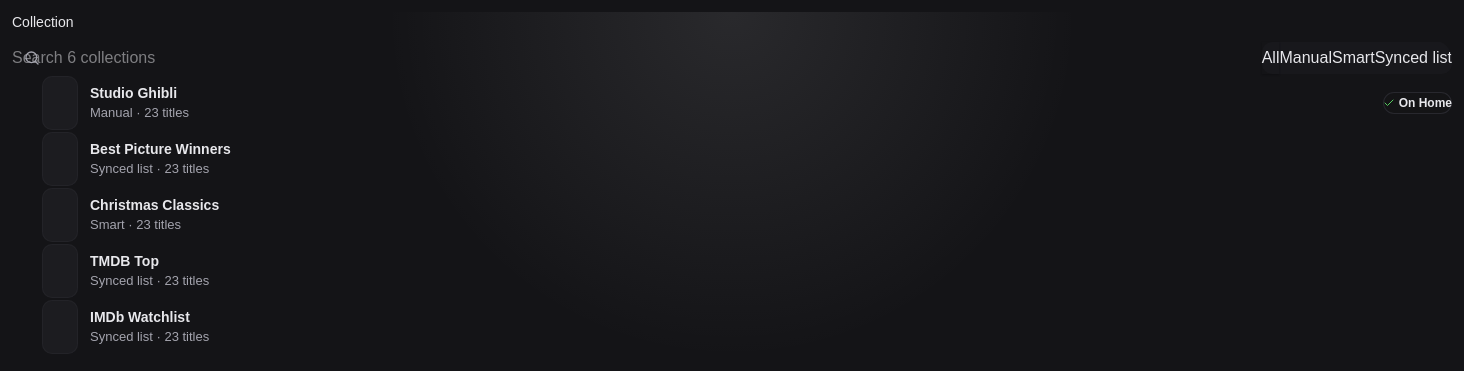
Test: CollectionPicker › searches by name and says when nothing matches
Type "christ" into the search field named "Search collections".
click(633, 58); type("christ")  # box x1=12 y1=40 x2=1254 y2=76
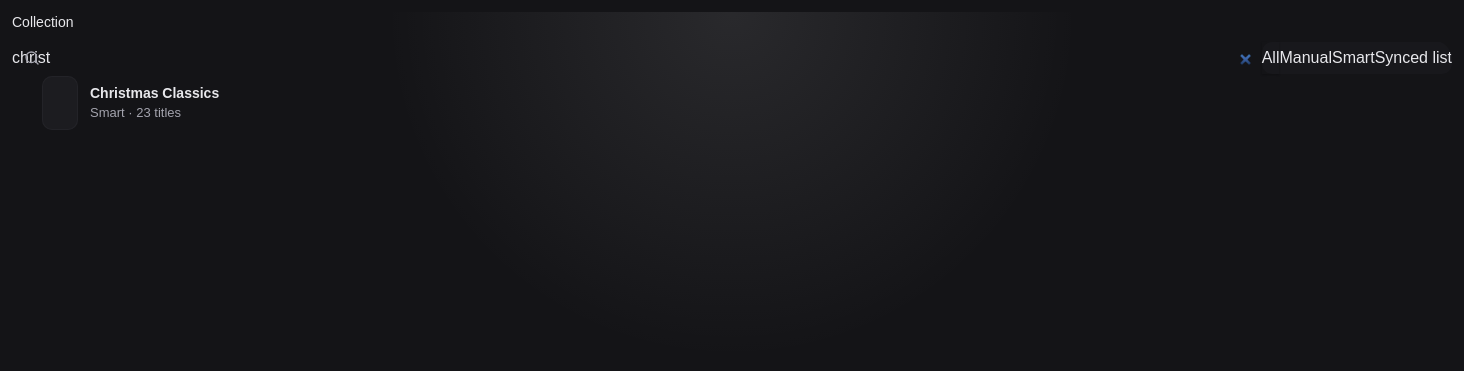
Replace the text in the search field named "Search collections" with "zzz" at (633, 58), box x1=12 y1=40 x2=1254 y2=76
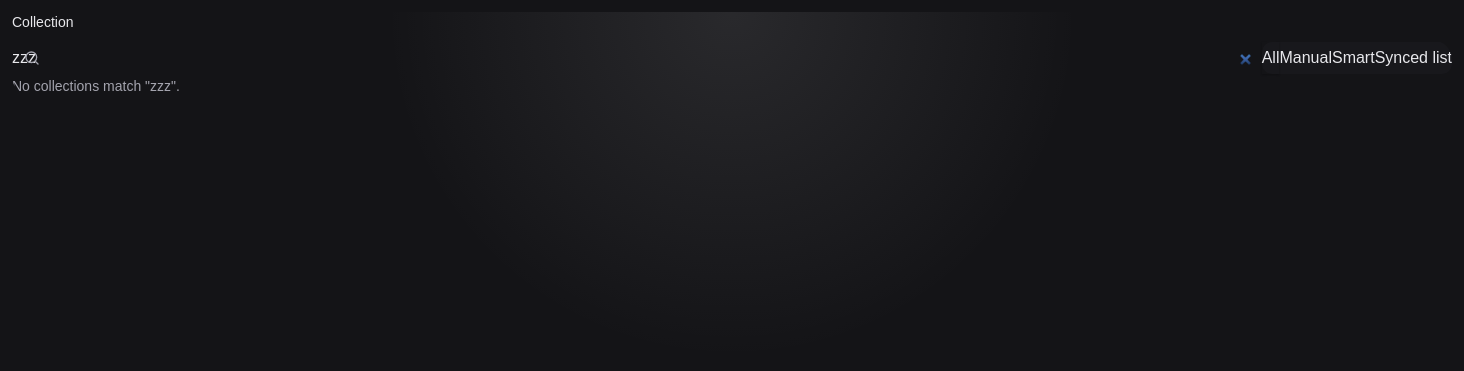
expect the text "No collections match \"zzz\"." is shown: met, box x1=12 y1=78 x2=180 y2=94
